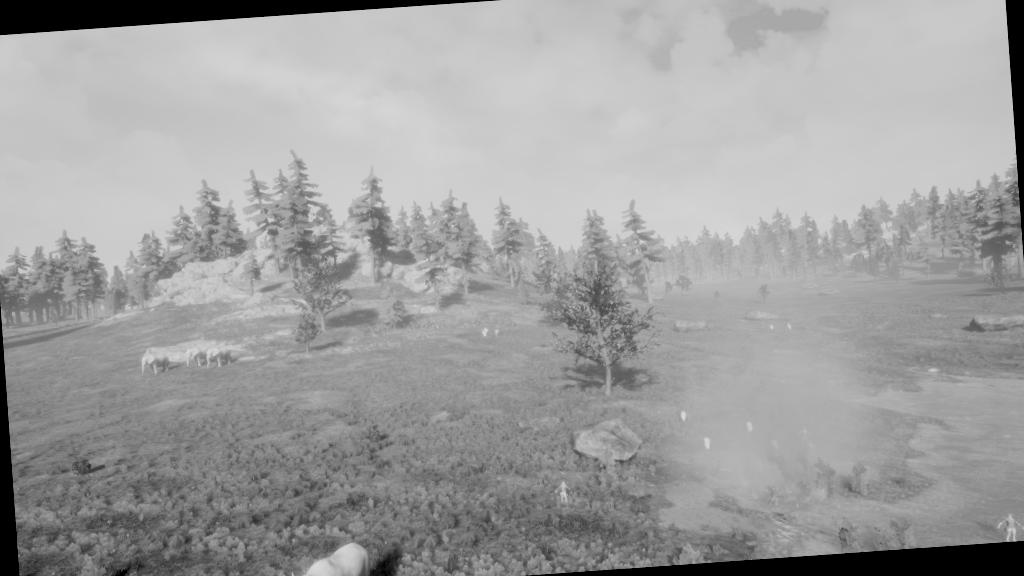Fire: (731, 425, 838, 513)
elephant: (136, 347, 172, 380), (204, 344, 238, 374), (180, 344, 212, 371)
human: (548, 474, 580, 512), (993, 507, 1023, 542)
smoke: (660, 258, 888, 523)
